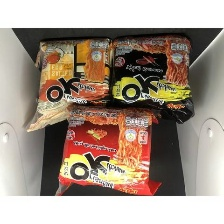snack: (51, 99, 167, 196), (18, 34, 119, 136), (105, 32, 199, 128)
